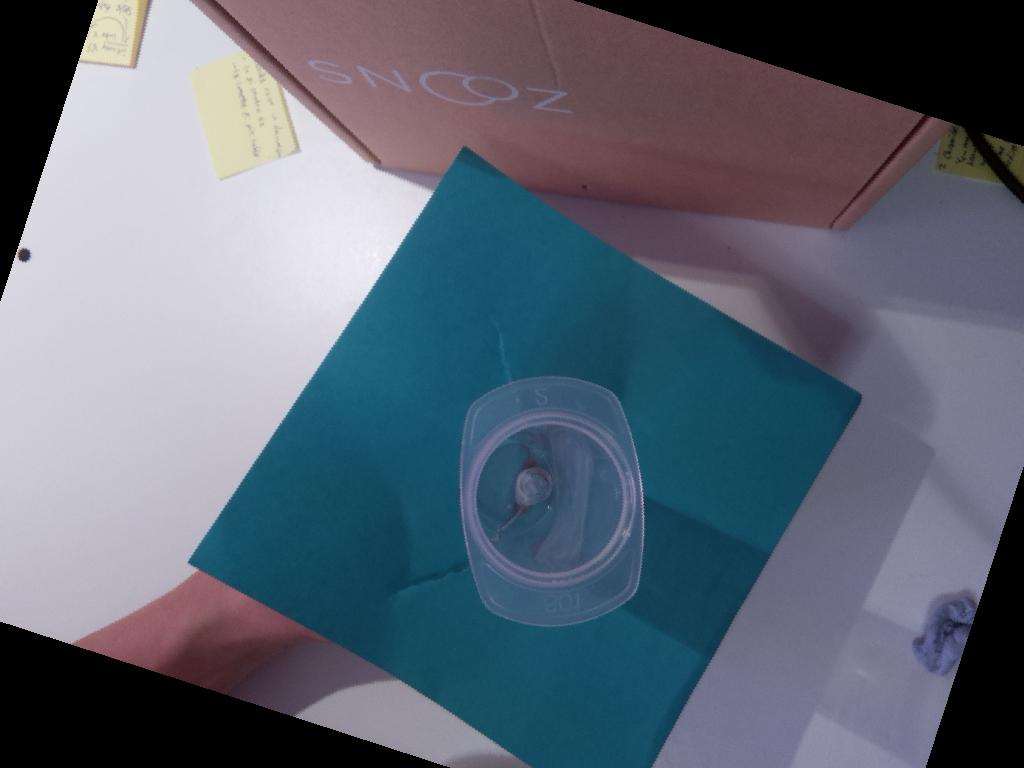clean: (457, 372, 647, 630)
